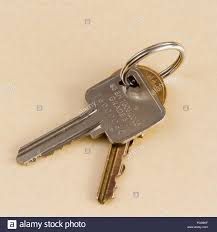key: (16, 65, 168, 205)
